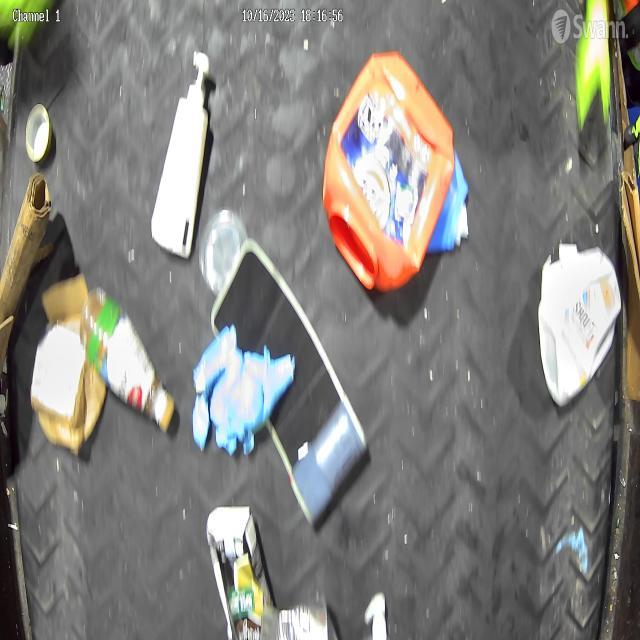can: (200, 209, 248, 295), (24, 103, 54, 163)
milk_jug: (538, 241, 622, 412)
non_white_jug: (321, 53, 457, 297)
